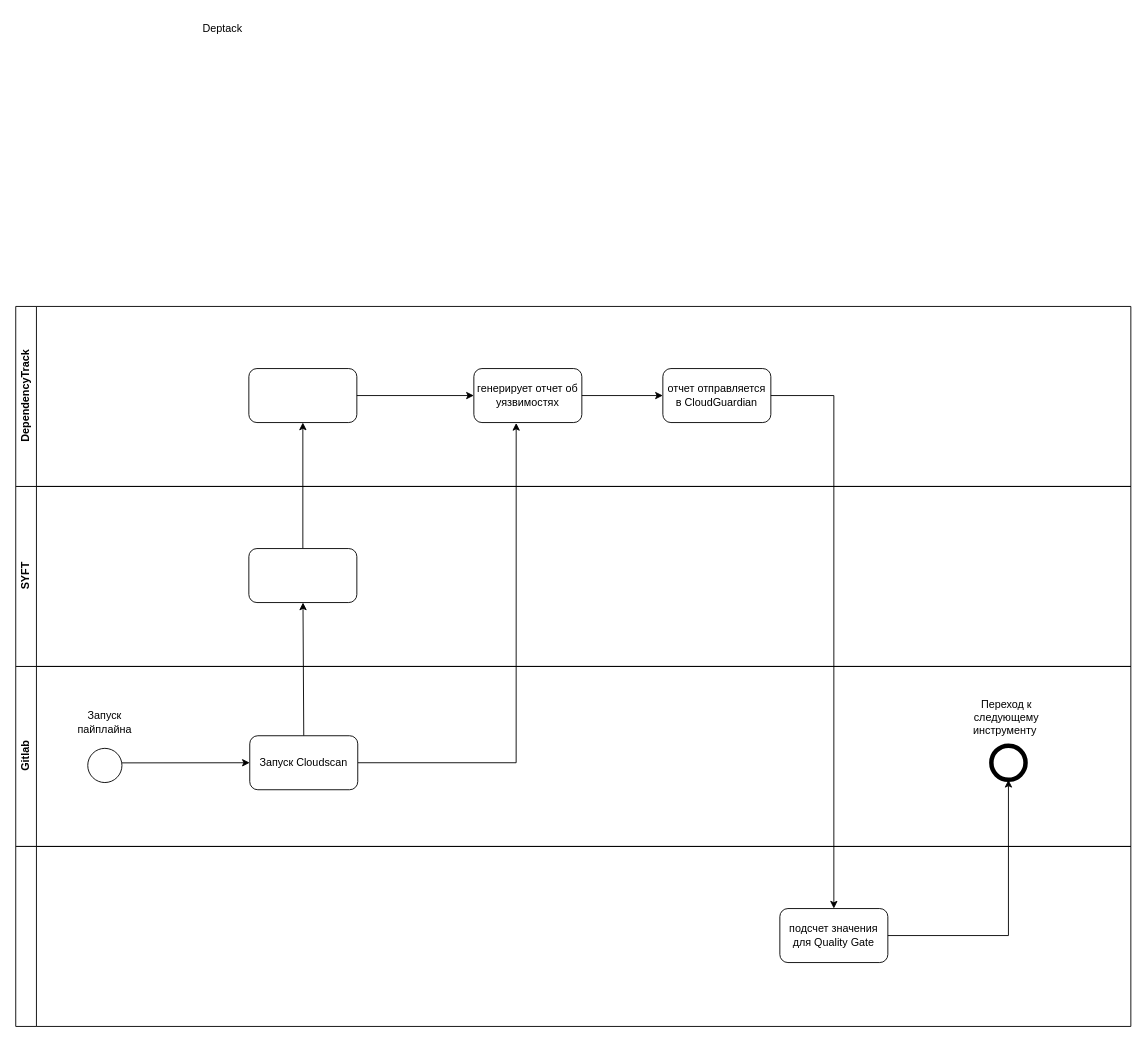
Some shapes in this 1147 by 1042 pixel diagram are drawn without their labels. Here are the shapes that lost their labels. From the top down, the box of each, then its label:
(248, 368, 357, 423): сканирование на уязвимости
(248, 548, 357, 603): Генерация SBOM
(15, 846, 1131, 1026): CloudGuardian
